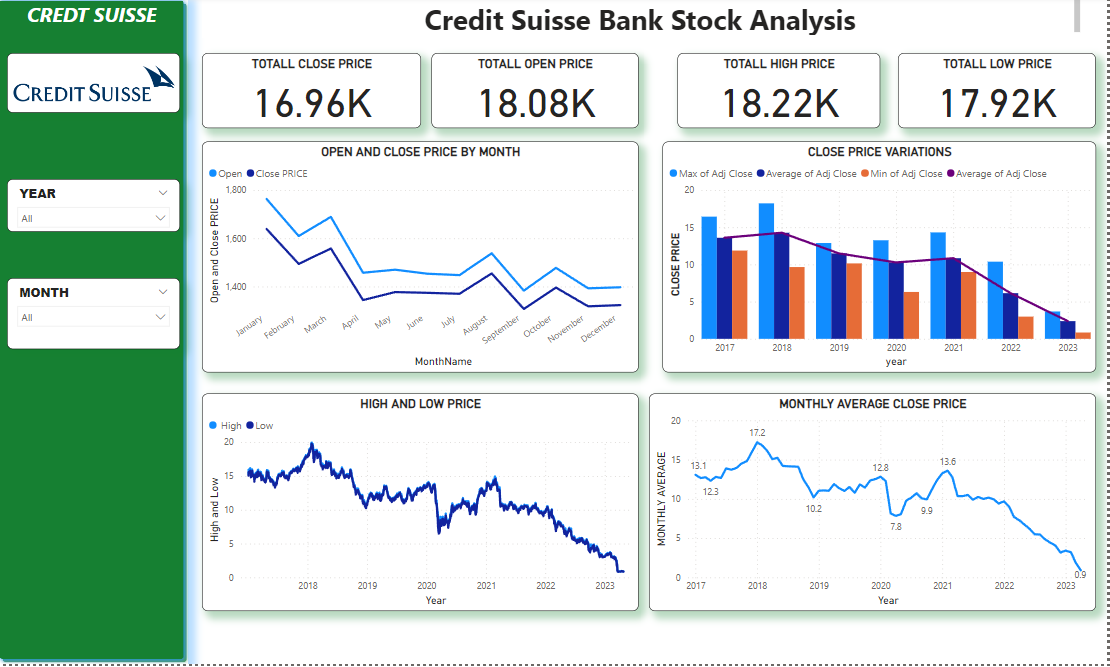

What the dashboard file says about the page in this screenshot:
{"tool":"powerbi","page":{"name":"BASIC INDICATORS","canvas":[1500,900],"ordinal":0},"visuals":[{"type":"shape","box":[0,0,260.9,900],"z":0},{"type":"slicer","fields":{"Values":["month.MonthName"]},"box":[15.4,379.4,233,96.3],"z":1000},{"type":"slicer","fields":{"Values":["year.year"]},"box":[15.4,246.5,233,71.3],"z":2000},{"type":"image","box":[15.4,77,233,80.9],"z":3000},{"type":"card","title":"TOTALL CLOSE PRICE","fields":{"Values":["Sum(Credit Suisse.Adj Close)"]},"box":[279.1,18.2,295.3,121.3],"z":4000},{"type":"card","title":"TOTALL HIGH PRICE","fields":{"Values":["Sum(Credit Suisse.High)"]},"box":[920.2,18.2,273,121.3],"z":5000},{"type":"card","title":"TOTALL LOW PRICE","fields":{"Values":["Sum(Credit Suisse.Low)"]},"box":[1217.5,18.2,267,121.3],"z":6000},{"type":"card","title":"TOTALL OPEN PRICE","fields":{"Values":["Sum(Credit Suisse.Open)"]},"box":[588.5,18.2,279.1,121.3],"z":7000},{"type":"lineChart","title":"OPEN AND CLOSE PRICE BY MONTH ","fields":{"Y":["Sum(Credit Suisse.Open)","Sum(Credit Suisse.Adj Close)"],"Category":["month.MonthName"]},"box":[279.1,196.2,588.5,311.5],"z":8000},{"type":"lineChart","title":"HIGH AND LOW PRICE","fields":{"Category":["Credit Suisse.Date.Variation.Date Hierarchy.Year","Credit Suisse.Date.Variation.Date Hierarchy.Quarter","Credit Suisse.Date.Variation.Date Hierarchy.Month","Credit Suisse.Date.Variation.Date Hierarchy.Day"],"Y":["Sum(Credit Suisse.High)","Sum(Credit Suisse.Low)"]},"box":[279.1,536,588.5,293.3],"z":9000},{"type":"lineChart","title":"MONTHLY AVERAGE CLOSE PRICE","fields":{"Y":["ALL  MEAUSRES.MONTHLY AVERAGE"],"Category":["Credit Suisse.Date.Variation.Date Hierarchy.Year","Credit Suisse.Date.Variation.Date Hierarchy.Month"]},"box":[881.8,536,602.7,293.3],"z":10000},{"type":"lineClusteredColumnComboChart","title":"CLOSE PRICE VARIATIONS","fields":{"Y":["Max(Credit Suisse.Adj Close)","Avg(Credit Suisse.Adj Close)","Min(Credit Suisse.Adj Close)"],"Y2":["Avg(Credit Suisse.Adj Close)"],"Category":["year.year"]},"box":[900,196.2,584.5,311.5],"z":11000}]}

Visuals, with their boxes in screenshot pixels (x1, y1, x2, y2), scaled from the page's 1500x900 canvas onto the 1110x667 screenshot:
shape: <region>0, 0, 193, 666</region>
slicer - month.MonthName: <region>11, 281, 184, 353</region>
slicer - year.year: <region>11, 183, 184, 236</region>
image: <region>11, 57, 184, 117</region>
"TOTALL CLOSE PRICE" card: <region>207, 13, 425, 103</region>
"TOTALL HIGH PRICE" card: <region>681, 13, 883, 103</region>
"TOTALL LOW PRICE" card: <region>901, 13, 1099, 103</region>
"TOTALL OPEN PRICE" card: <region>435, 13, 642, 103</region>
"OPEN AND CLOSE PRICE BY MONTH " lineChart: <region>207, 145, 642, 376</region>
"HIGH AND LOW PRICE" lineChart: <region>207, 397, 642, 615</region>
"MONTHLY AVERAGE CLOSE PRICE" lineChart: <region>653, 397, 1099, 615</region>
"CLOSE PRICE VARIATIONS" lineClusteredColumnComboChart: <region>666, 145, 1099, 376</region>
